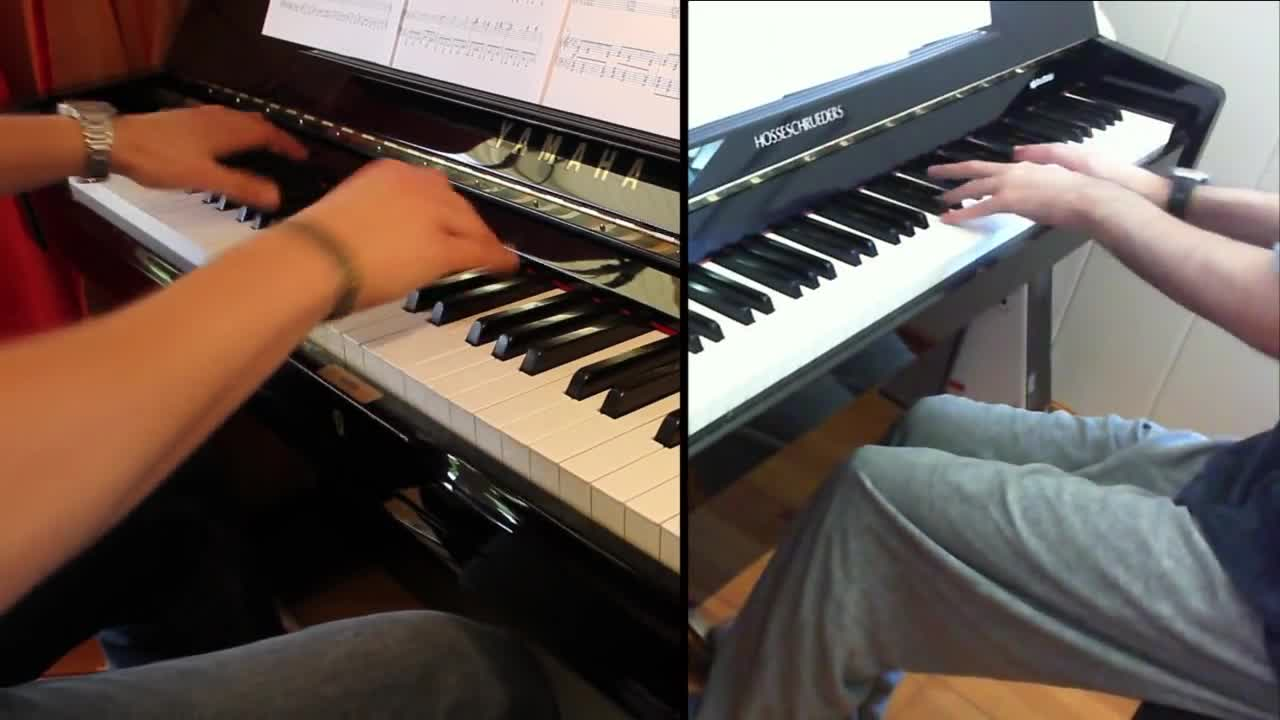left: (129, 92, 309, 211), (925, 161, 1075, 228)
right: (290, 154, 523, 301), (1012, 128, 1137, 195)
